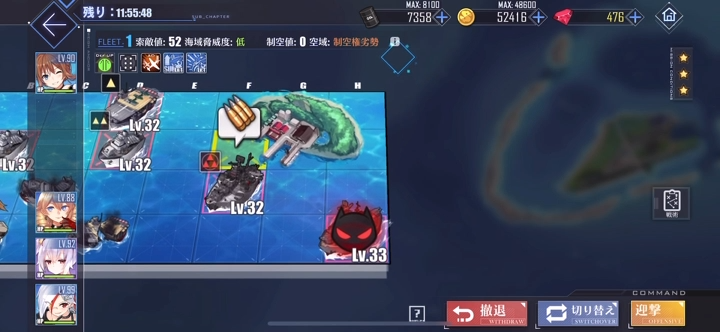boss: (324, 203, 385, 264)
lv3: (199, 148, 268, 215)
